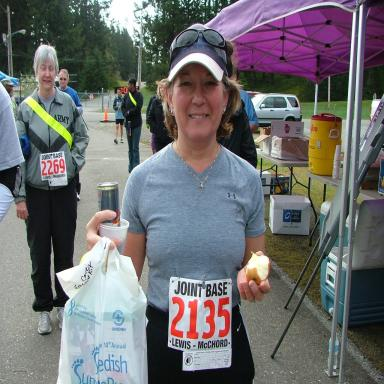plasticbag: (54, 234, 149, 383)
